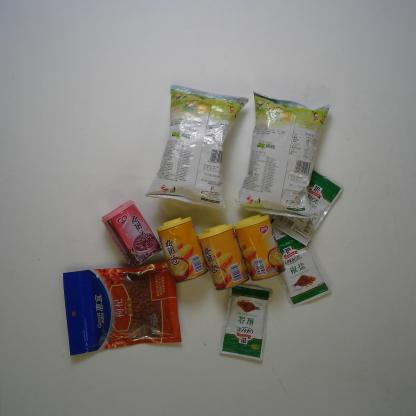Canned Food: (99, 198, 164, 270), (232, 212, 287, 283), (155, 213, 209, 285), (196, 222, 251, 292)
Dried Fruit: (60, 260, 184, 360)
Puffed Food: (142, 81, 251, 214), (232, 89, 332, 221)
Seasoner: (269, 168, 345, 248), (217, 284, 276, 364), (274, 232, 332, 310)
